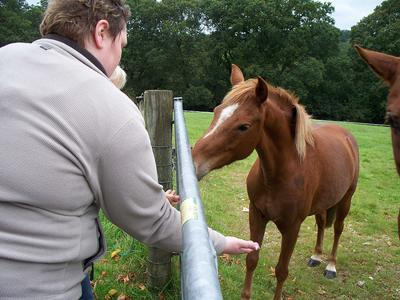person: (1, 2, 261, 300)
